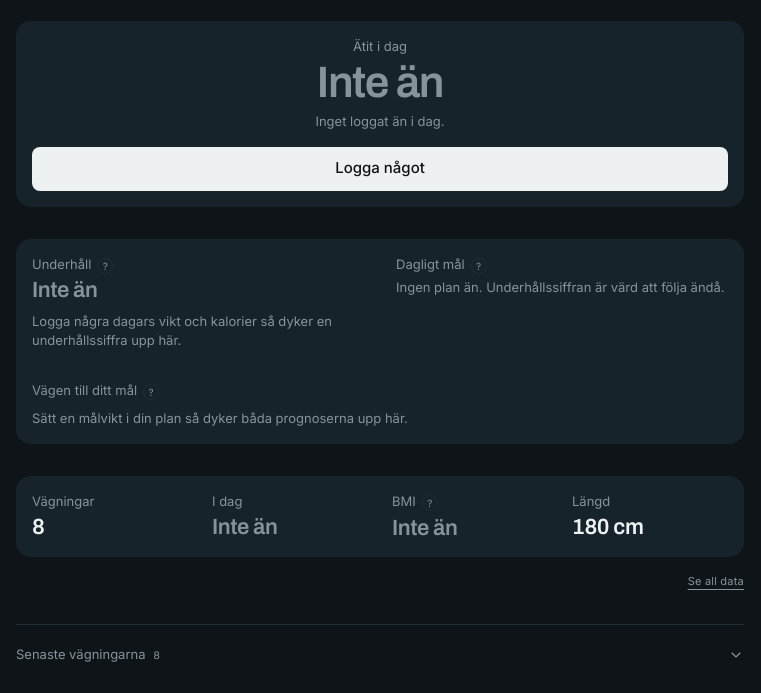
the readings list › shows five of eight and offers the rest behind a link
The image size is (761, 693).
(page scrolled)
Click the button with test id "recent-readings". click: (81, 654)
box: [16,633,744,677]
(page scrolled)
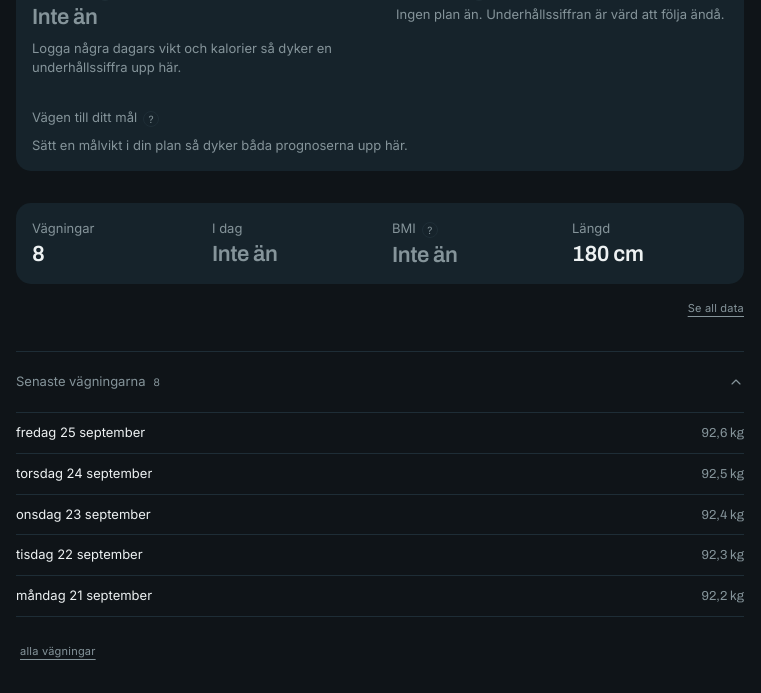
Expected: the button with test id "edit-weight-r-7" is shown, [16,413,744,453]
Expected: the button with test id "open-calendar" is shown, [16,629,100,673]
